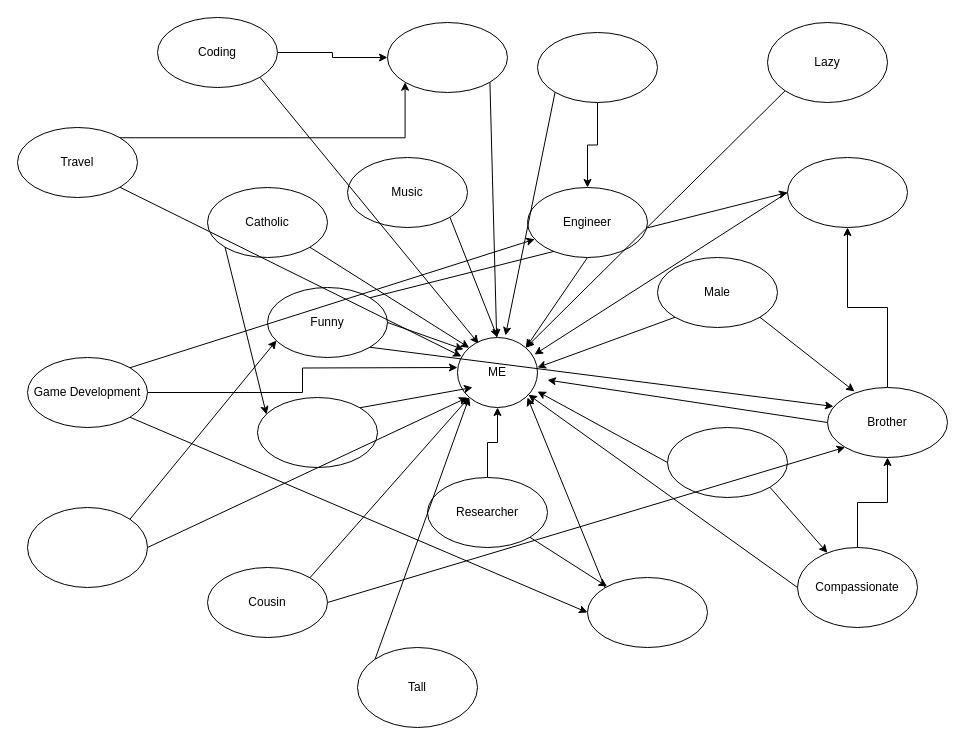
Some shapes in this 965 by 745 pixel diagram are drawn without their labels. Here are the shapes that lost their labels. From the top down, the centre of each, then its label:
the point at 447,57: Indian
the point at 597,67: Student
the point at 847,192: Friend
the point at 317,432: Party
the point at 727,462: Son
the point at 87,547: Watch Sitcoms
the point at 647,612: Self-taught
